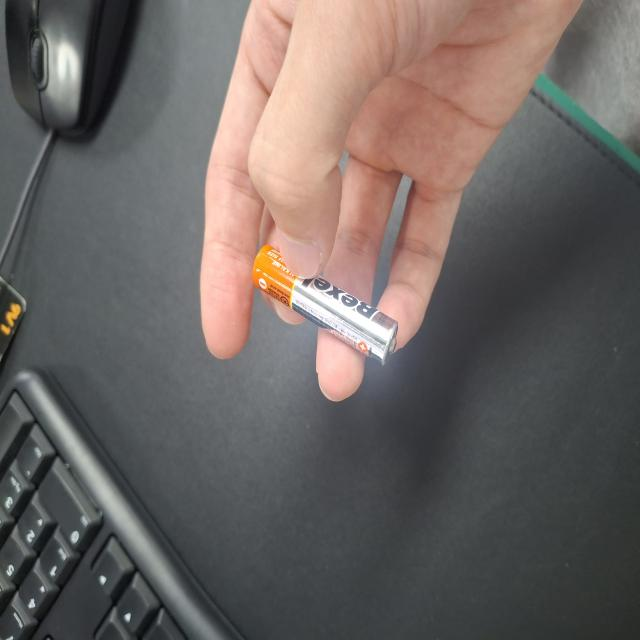AAA: (207, 338, 294, 530)
